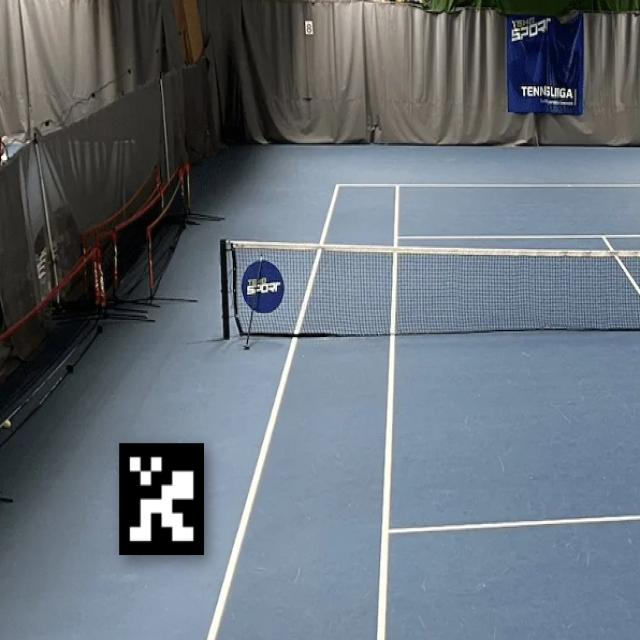marker: (113, 432, 214, 566)
